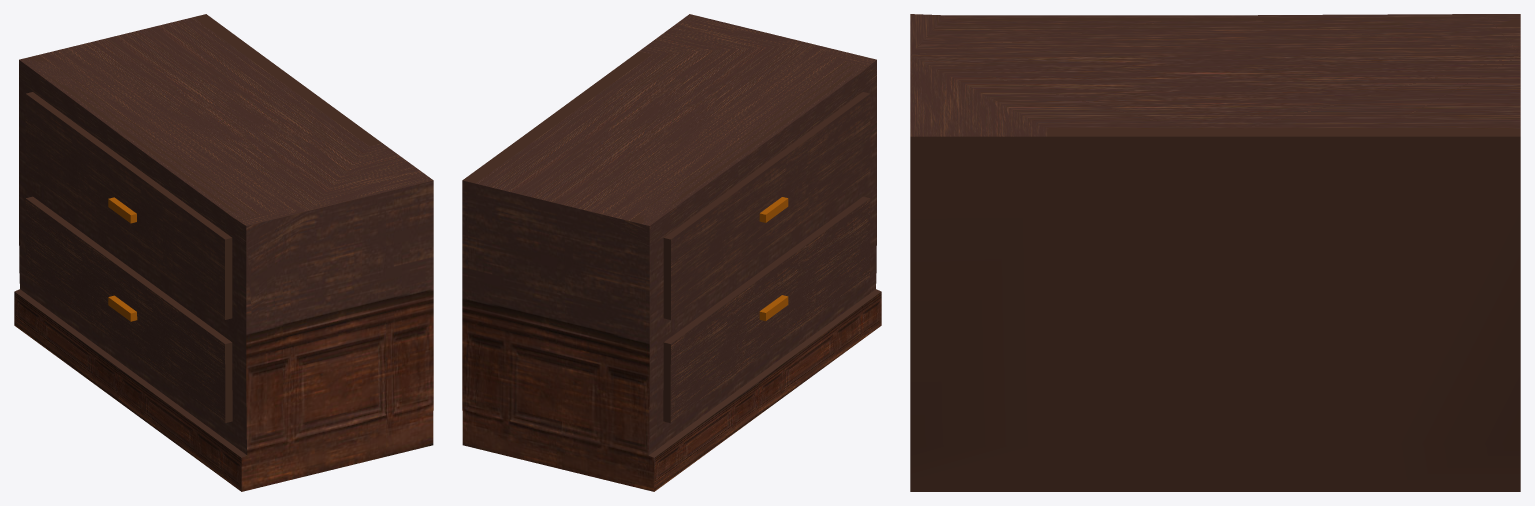
Rendered from kommode_model.FBX.
3 views of the same model, side by side, from view 1: azimuth 30°, elevation 25°; view 2: azimuth 150°, elevation 25°; view 3: azimuth 270°, elevation 25° (orthographic). The views are drawn at different scales.
Visible parts, largest first — view 1: kommode, kommode_griff; view 2: kommode, kommode_griff; view 3: kommode.
Boxes of the visible parts, x1,y1,x2,y2 form: kommode: [14, 14, 433, 491]; kommode_griff: [108, 197, 137, 321]; kommode: [462, 14, 881, 491]; kommode_griff: [759, 197, 788, 321]; kommode: [910, 14, 1520, 491].
Bounding box in the file's own units: 18.51 × 23.31 × 36.29.
Materials: 2 (1 with a texture image).
